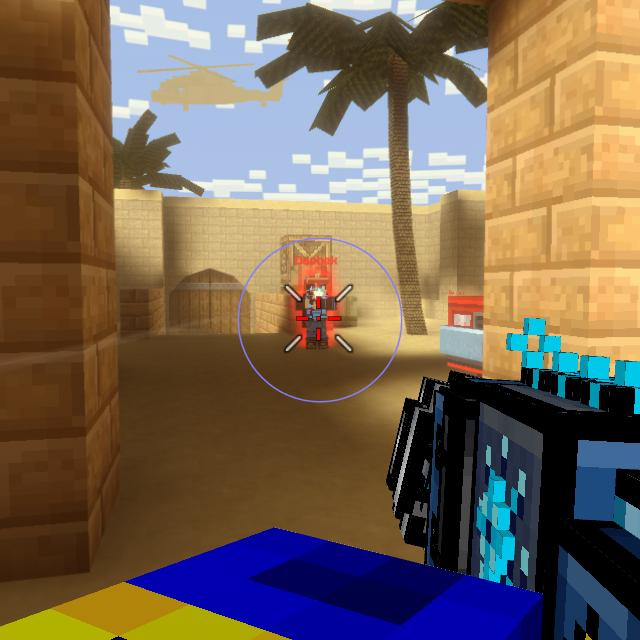Enemy: (293, 278, 336, 352)
